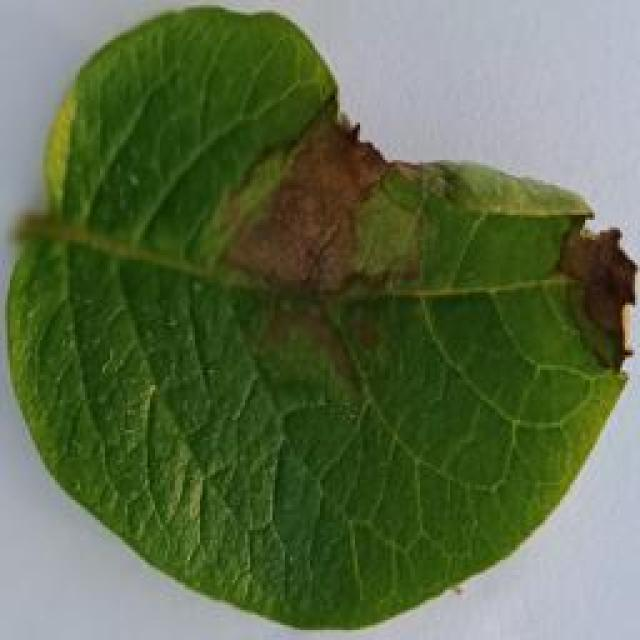Potato_Late_Blight: (3, 4, 633, 631), (362, 4, 636, 154)
